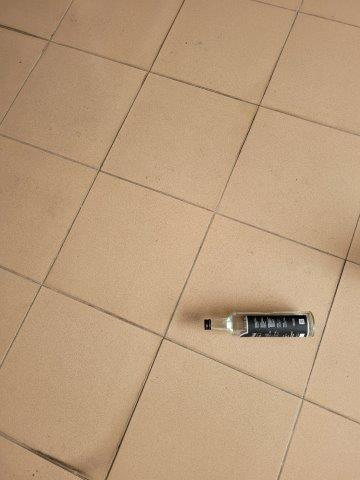botolkaca: (202, 311, 316, 338)
